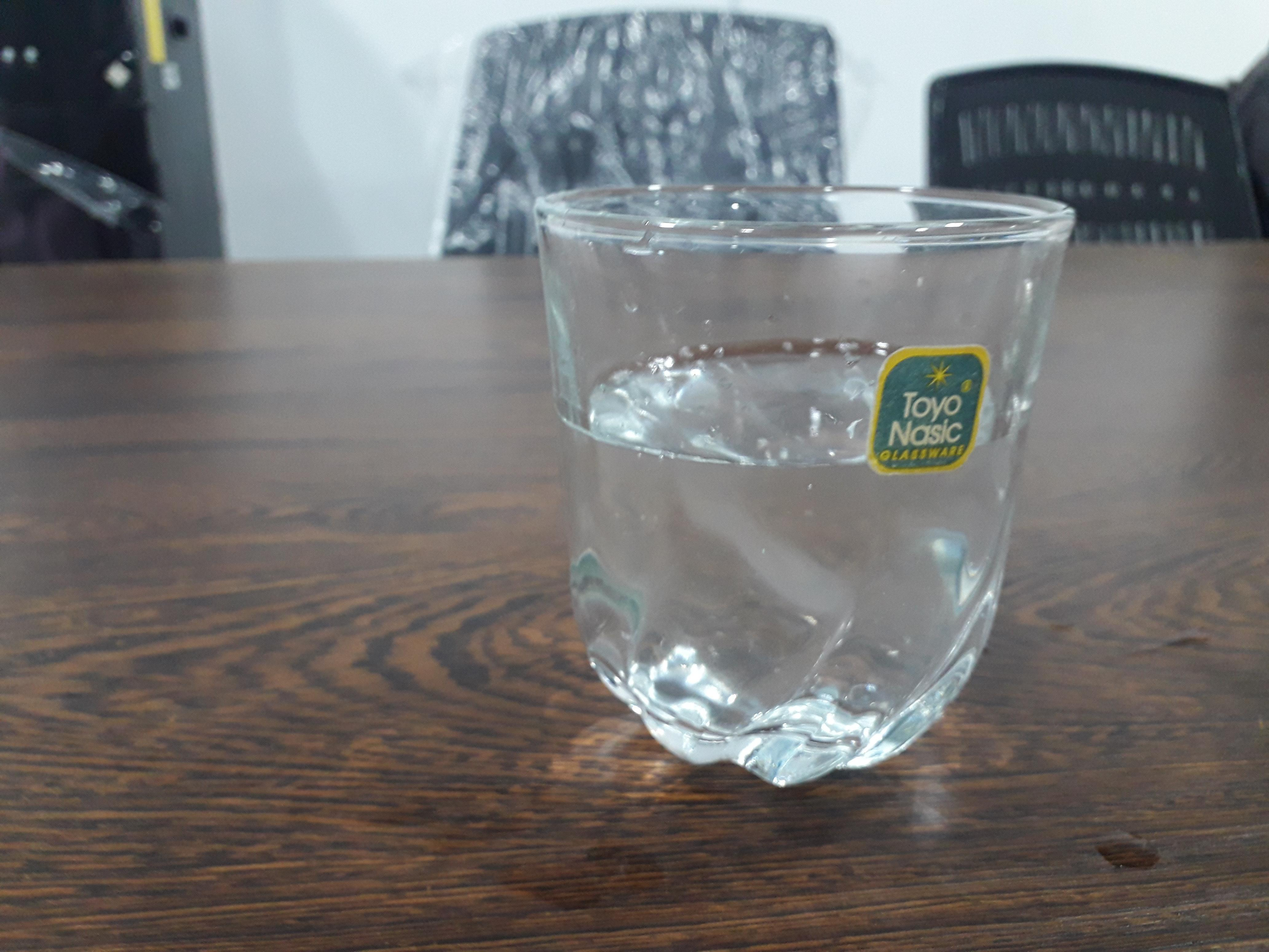glass-normal: (534, 177, 1078, 795)
